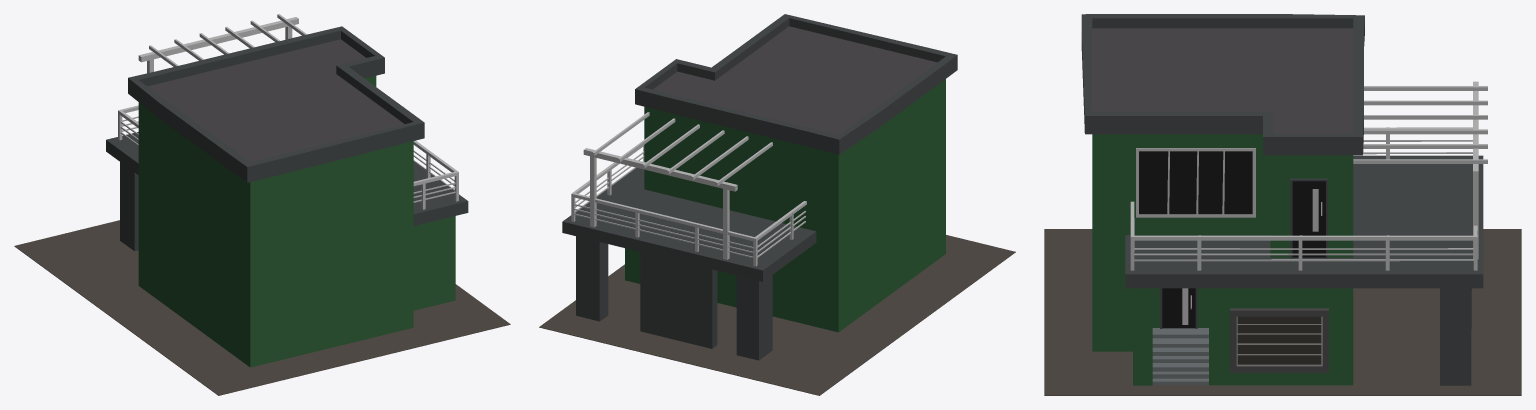
Rendered from Building_House2_Green.fbx.
The picture shows the model from 3 angles, left to right: view 1: azimuth 30°, elevation 25°; view 2: azimuth 150°, elevation 25°; view 3: azimuth 270°, elevation 25°; orthographic projection. The views are drawn at different scales.
Visible parts, largest first — view 1: Cube, Plane; view 2: Cube, Plane; view 3: Cube, Plane, Plane.001.
Boxes of the visible parts, x1,y1,x2,y2 form: Cube: [106, 14, 468, 367]; Plane: [14, 220, 510, 395]; Cube: [562, 14, 957, 360]; Plane: [539, 235, 1015, 395]; Cube: [1081, 14, 1487, 385]; Plane: [1044, 229, 1521, 395]; Plane.001: [1230, 308, 1328, 372].
Size of the model in its own units: 1100 by 743 by 1333.
